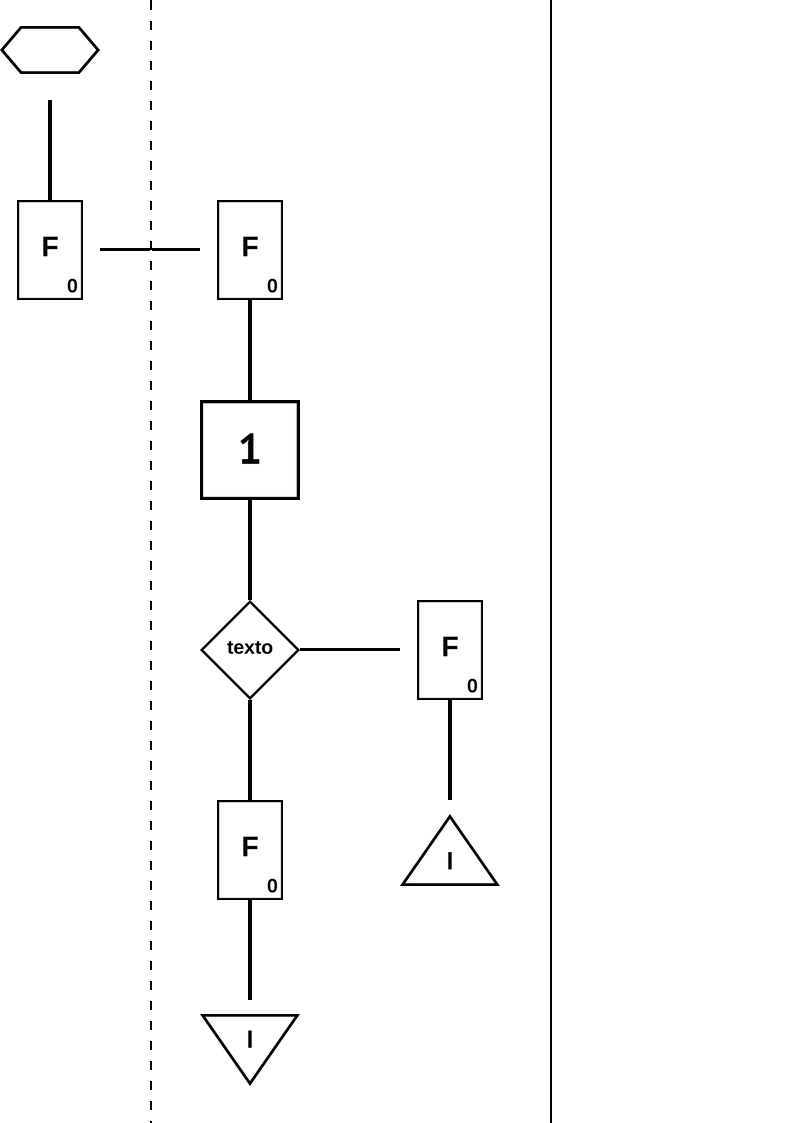archivoDefinitivo: (400, 814, 500, 886)
archivoTransitorio: (200, 1014, 300, 1086)
control: (200, 400, 300, 500)
decision: (200, 600, 300, 700)
documento: (17, 200, 83, 300), (217, 200, 283, 300), (217, 800, 283, 900), (417, 600, 483, 700)
proceso: (0, 26, 100, 74)
trasladoDeInformacion_horizontal: (100, 228, 200, 271), (300, 628, 400, 671)
trasladoDeInformacion_vertical: (28, 100, 72, 200), (228, 300, 272, 400), (228, 500, 272, 600), (228, 700, 272, 800), (228, 900, 272, 1000), (428, 700, 472, 800)
